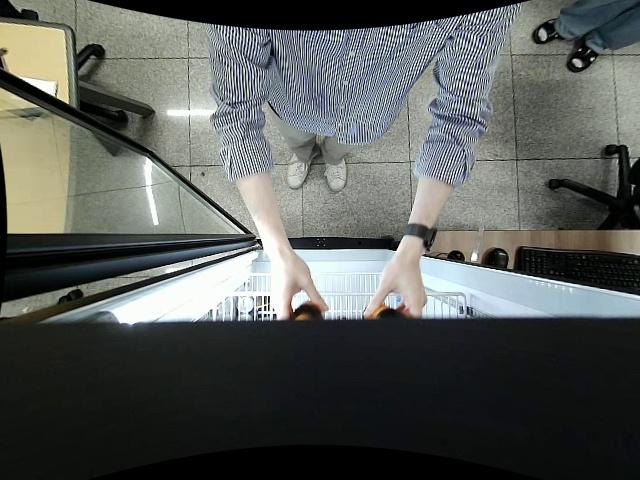00_hand: (268, 259, 330, 322), (362, 264, 428, 319)
17_vita500: (293, 304, 323, 324), (371, 304, 403, 319)
